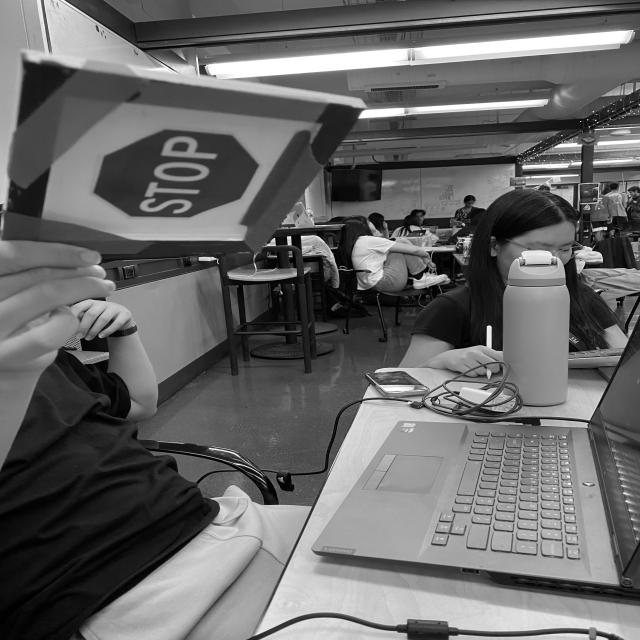stop: (85, 123, 265, 223)
